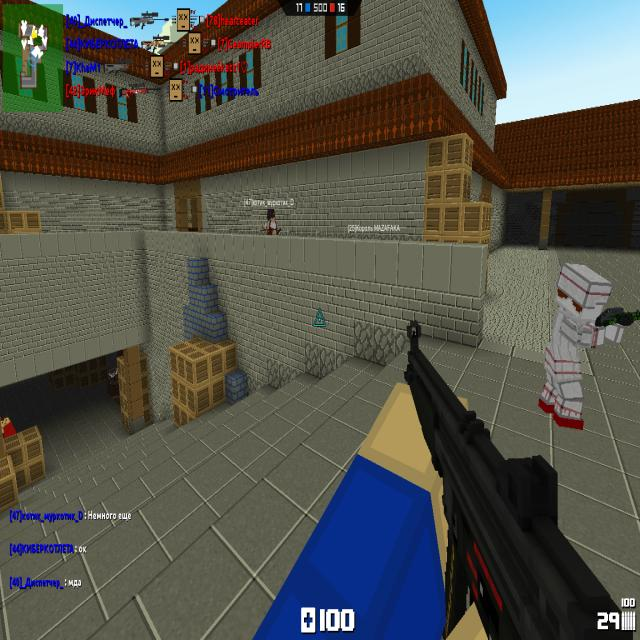enemy: (538, 261, 625, 430), (108, 366, 120, 399), (1, 413, 16, 438)
